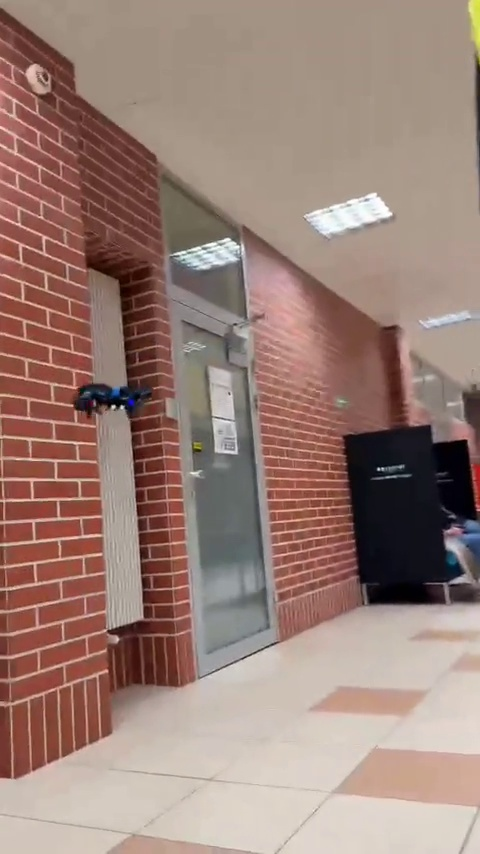drone: (66, 382, 153, 417)
